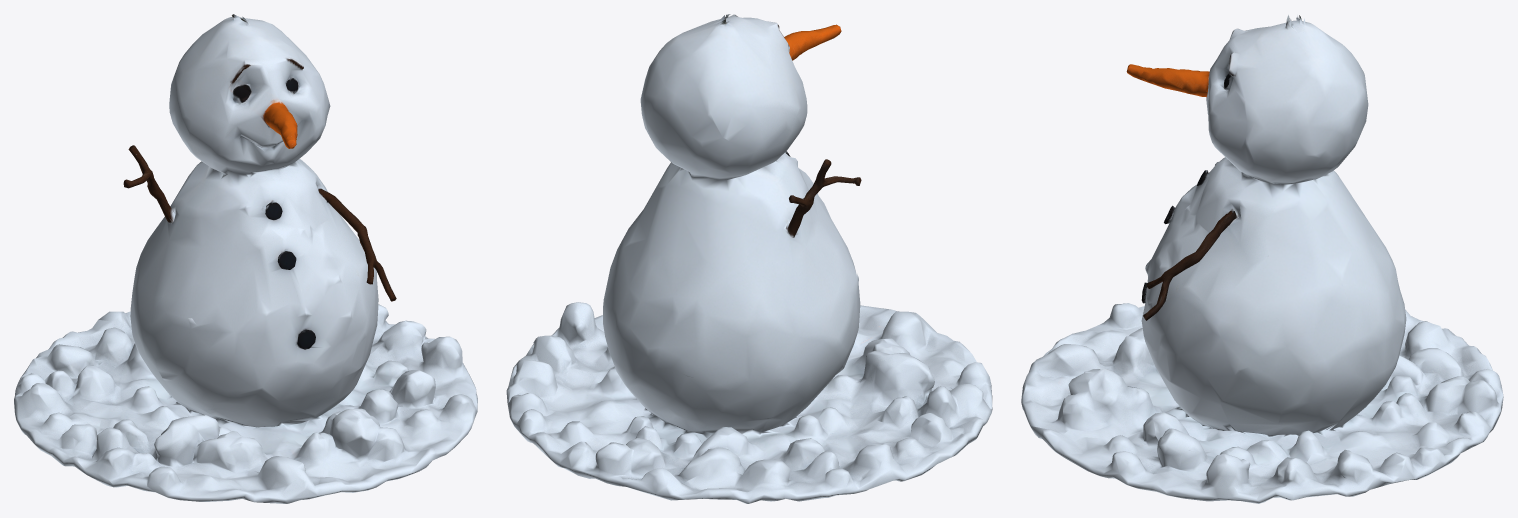
Rendered from snowman.glb.
3 renders of one model, left to right at view 1: azimuth 30°, elevation 25°; view 2: azimuth 150°, elevation 25°; view 3: azimuth 270°, elevation 25°, orthographic. The views are drawn at different scales.
Bounding box in the file's own units: 1.9 × 1.72 × 1.9.
Materials: 1 (1 with a texture image).
